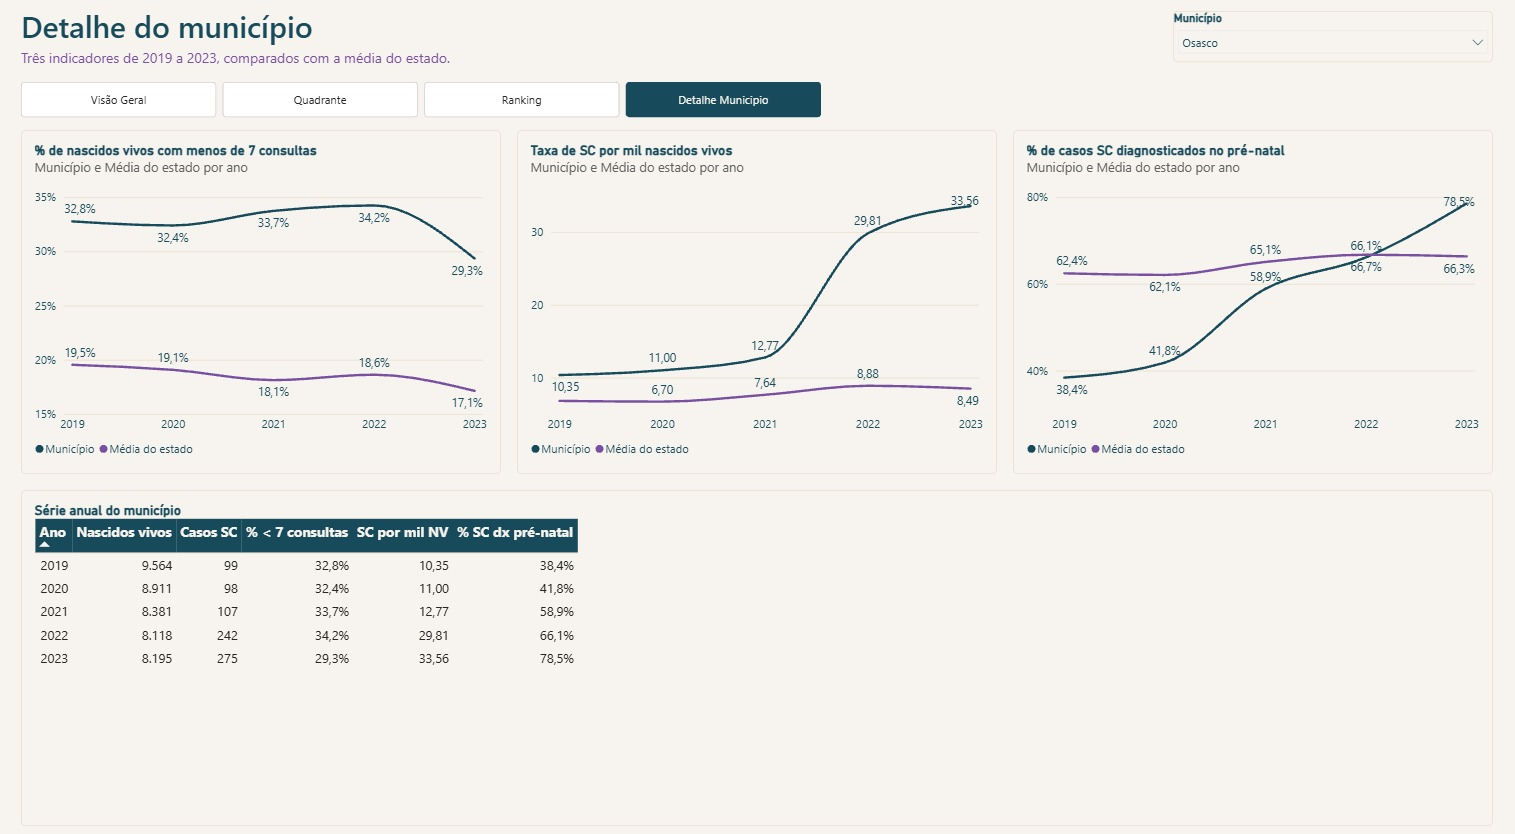

The page's visual inventory and layout, read from the dashboard file:
{"tool":"powerbi","page":{"name":"Detalhe Municipio","canvas":[1920,1080],"ordinal":3},"visuals":[{"type":"textbox","box":[40,70,1400,30],"z":0},{"type":"textbox","box":[40,18,1300,56],"z":1000},{"type":"pageNavigator","box":[40,112,1000,44],"z":2000},{"type":"slicer","title":"Município","fields":{"Values":["tabela_final.municipio"]},"box":[1480,24,400,64],"z":3000},{"type":"lineChart","title":"% de nascidos vivos com menos de 7 consultas","fields":{"Category":["tabela_final.ano"],"Y":["tabela_final.% Menos 7 Consultas","tabela_final.Média Estado % Menos 7"]},"box":[40,172,600,430],"z":4000},{"type":"lineChart","title":"Taxa de SC por mil nascidos vivos","fields":{"Category":["tabela_final.ano"],"Y":["tabela_final.Taxa Sifilis por Mil","tabela_final.Média Estado Taxa"]},"box":[660,172,600,430],"z":5000},{"type":"lineChart","title":"% de casos SC diagnosticados no pré-natal","fields":{"Category":["tabela_final.ano"],"Y":["tabela_final.% SC Dx Pré-natal","tabela_final.Média Estado % Dx"]},"box":[1280,172,600,430],"z":6000},{"type":"tableEx","title":"Série anual do município","fields":{"Values":["tabela_final.ano","tabela_final.Nascidos Vivos","tabela_final.Casos SC","tabela_final.% Menos 7 Consultas","tabela_final.Taxa Sifilis por Mil","tabela_final.% SC Dx Pré-natal"]},"box":[40,622,1840,420],"z":7000}]}

Visuals, with their boxes in screenshot pixels (x1, y1, x2, y2), scaled from the page's 1920x1080 canvas onto the 1515x834 screenshot:
textbox: box=[32, 54, 1136, 77]
textbox: box=[32, 14, 1057, 57]
pageNavigator: box=[32, 86, 821, 120]
"Município" slicer: box=[1168, 19, 1483, 68]
"% de nascidos vivos com menos de 7 consultas" lineChart: box=[32, 133, 505, 465]
"Taxa de SC por mil nascidos vivos" lineChart: box=[521, 133, 994, 465]
"% de casos SC diagnosticados no pré-natal" lineChart: box=[1010, 133, 1483, 465]
"Série anual do município" tableEx: box=[32, 480, 1483, 805]
